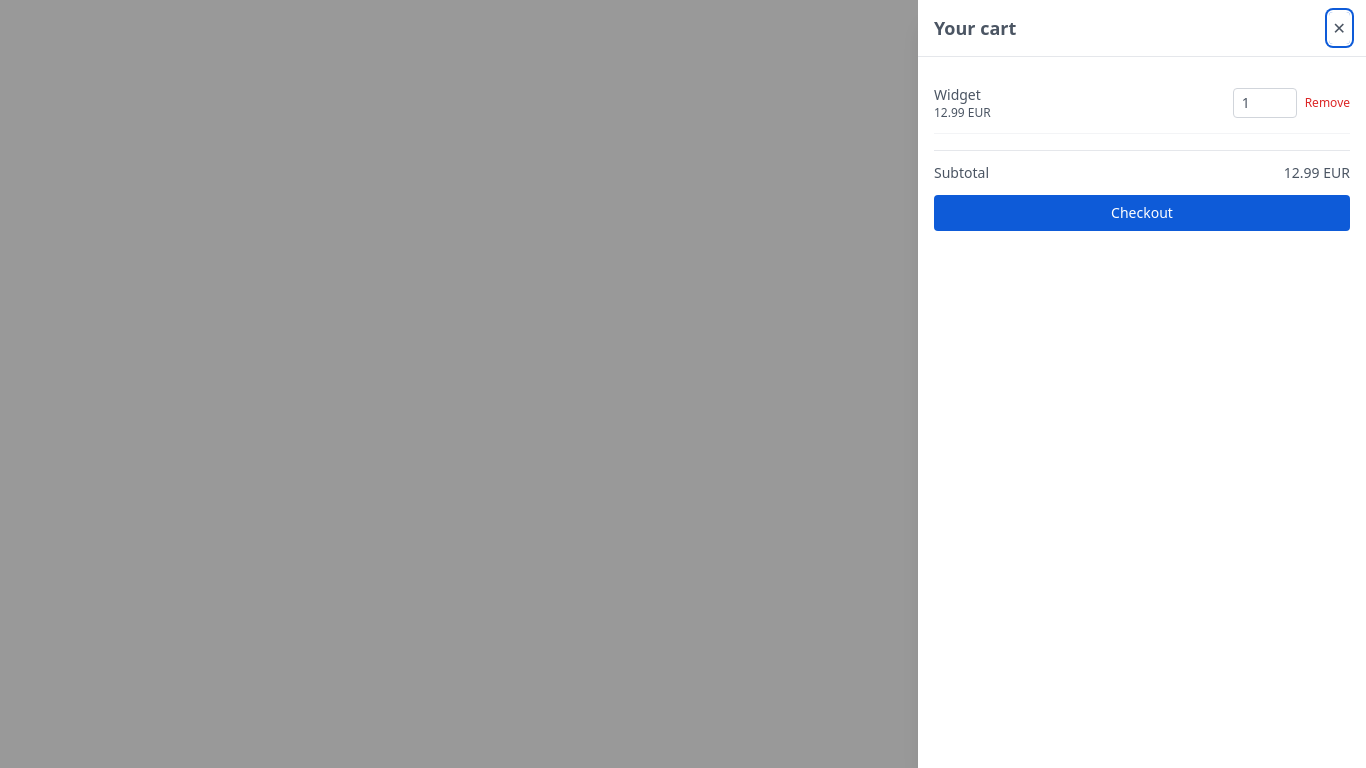
Scenario: CartDrawer › rolls back on remove failure and surfaces a toast
Check: the text "Widget" is shown, box [934, 85, 981, 104]
Click the button with aria-label "remove widget" at coordinates (1327, 103), box [1305, 95, 1350, 111]
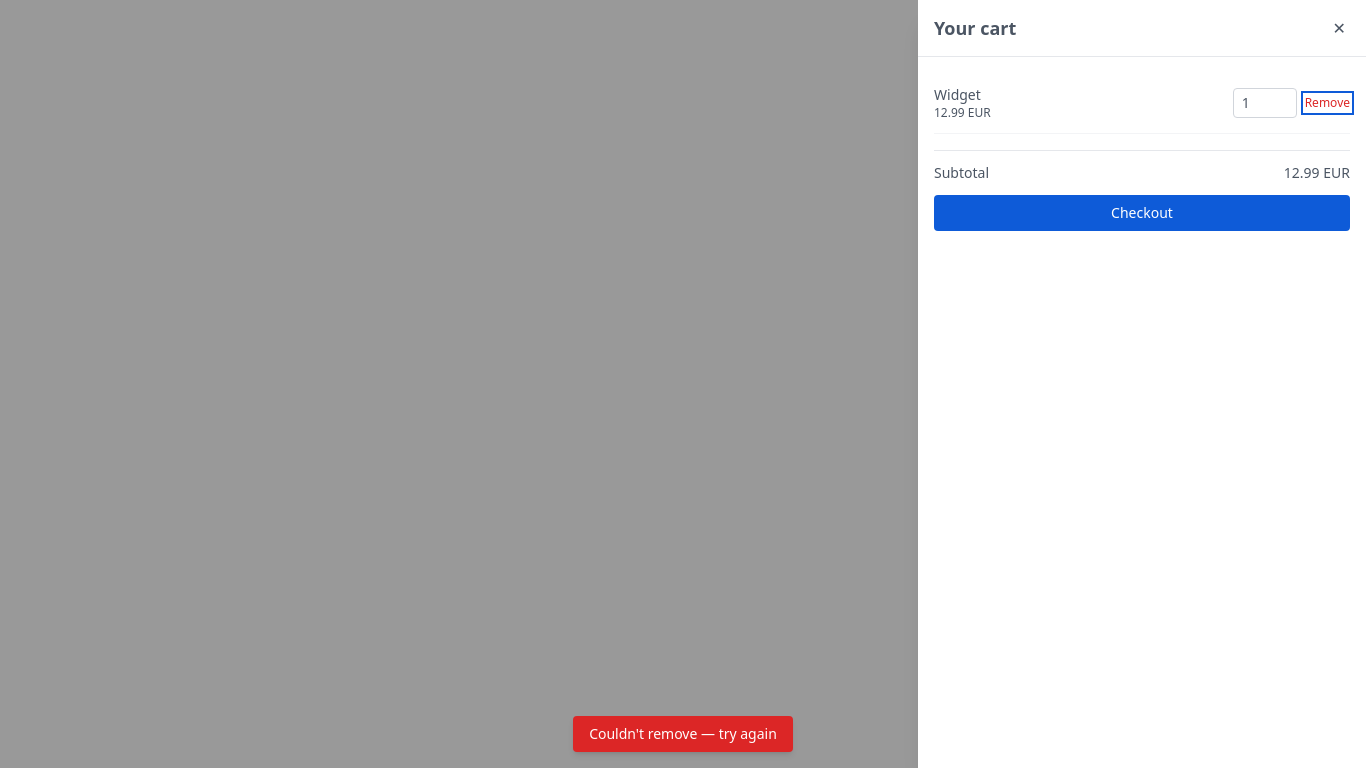
Check: the text "Widget" is shown, box [934, 85, 981, 104]
Check: the message shows "Couldn't remove", box [589, 724, 777, 743]
